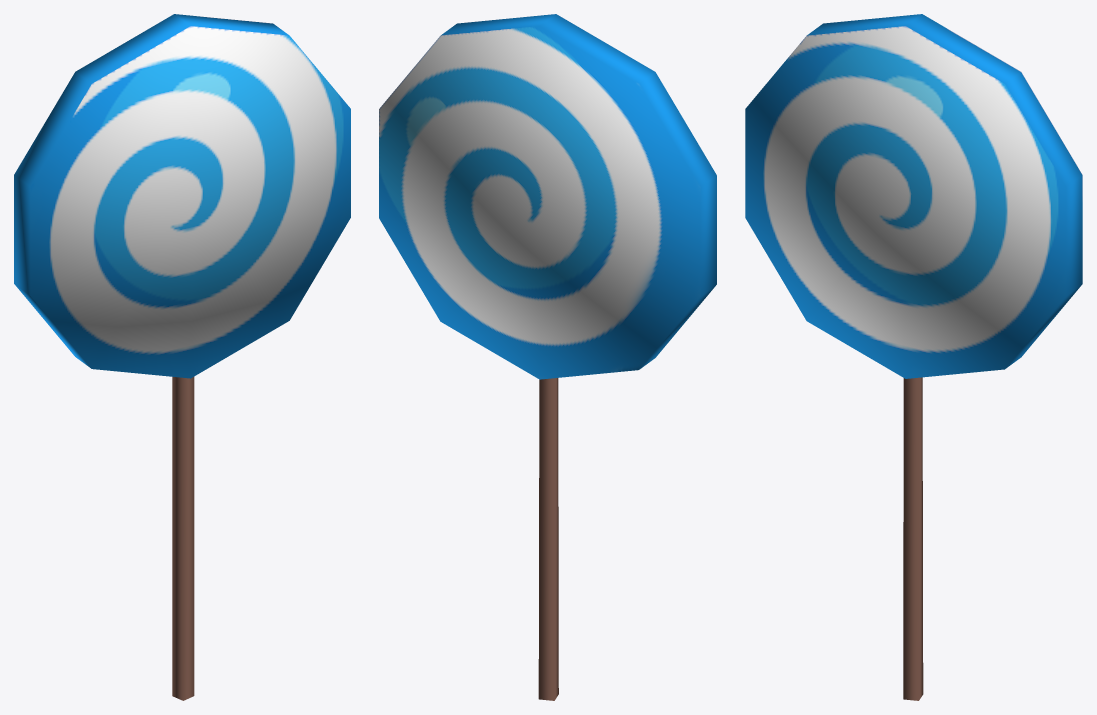
Rendered from tree_candy3.fbx.
The picture shows the model from 3 angles, left to right: view 1: azimuth 30°, elevation 25°; view 2: azimuth 150°, elevation 25°; view 3: azimuth 330°, elevation 25°; orthographic projection.
Parts seen in each view (by area): view 1: tree3; view 2: tree3; view 3: tree3.
Boxes of the visible parts, left/top/right/bottom form: tree3: left=14, top=14, right=350, bottom=700; tree3: left=379, top=14, right=716, bottom=700; tree3: left=745, top=14, right=1082, bottom=700.
Size of the model in its own units: 190 by 383 by 24.62.
